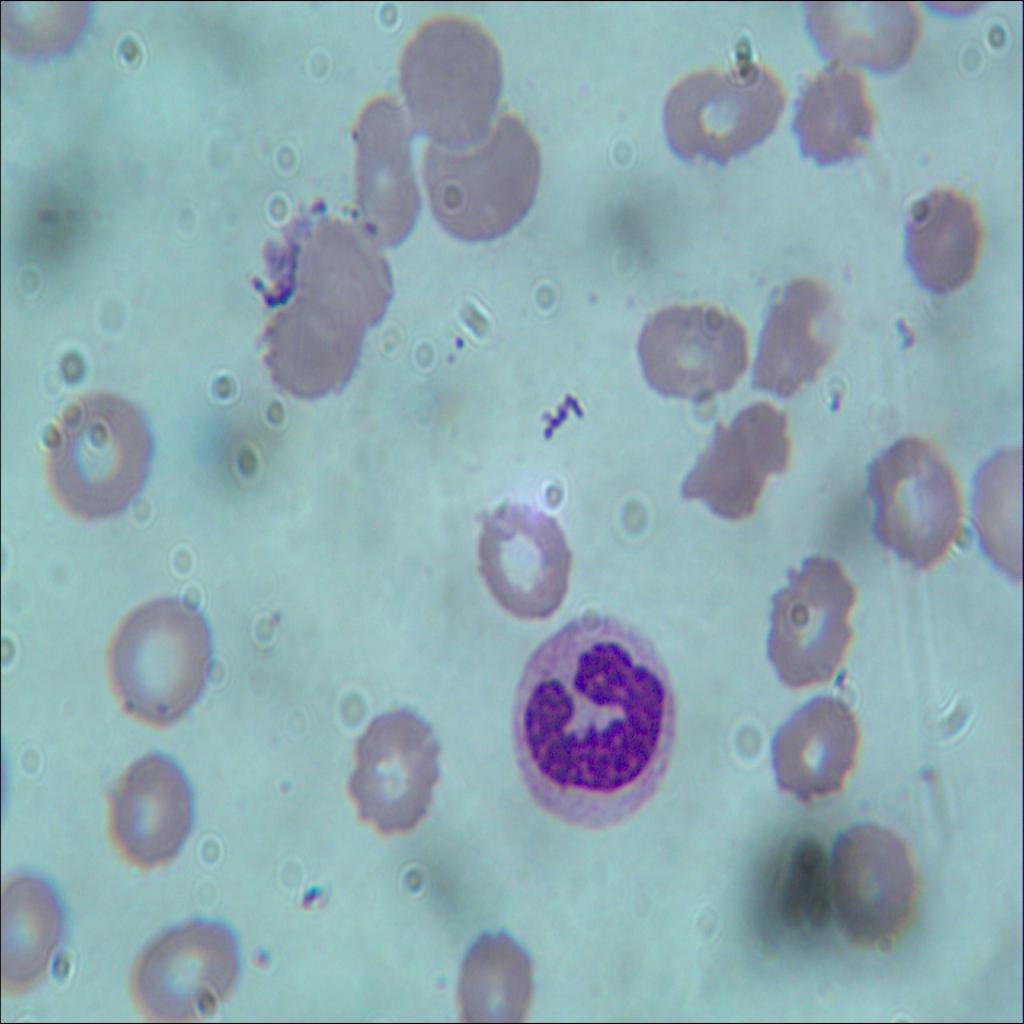Eritrosit: (40, 390, 158, 525), (750, 547, 858, 691), (390, 8, 501, 147), (422, 118, 544, 244), (675, 398, 798, 521), (348, 696, 446, 840), (122, 902, 238, 1023), (831, 801, 926, 948), (471, 499, 573, 632), (108, 594, 210, 722), (98, 749, 206, 868), (859, 441, 963, 564), (250, 284, 358, 401), (289, 220, 395, 330), (762, 689, 866, 799), (800, 0, 926, 89), (346, 98, 418, 245), (749, 275, 831, 401), (789, 58, 881, 168), (449, 911, 538, 1023), (0, 862, 63, 1011), (646, 298, 744, 392), (906, 188, 986, 301), (699, 62, 784, 162), (662, 62, 734, 159)
Neutrofil: (513, 612, 679, 832)
Platelet: (444, 322, 475, 352), (298, 876, 322, 912), (250, 944, 274, 971)
